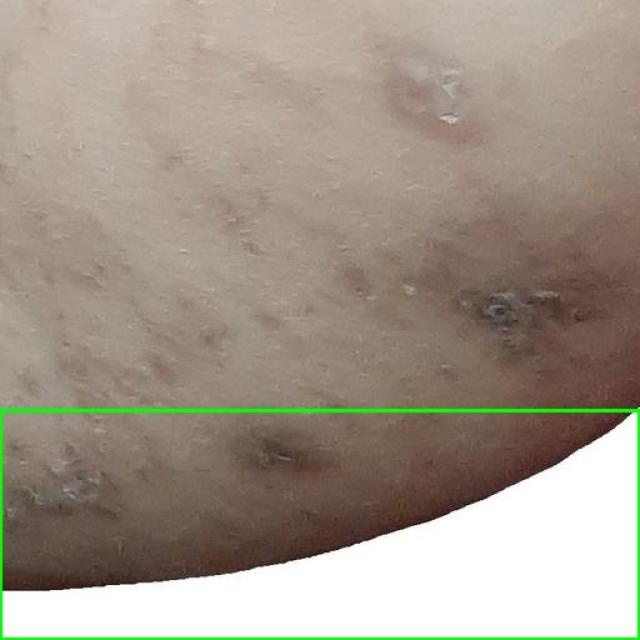Scabies: (0, 410, 639, 639)
